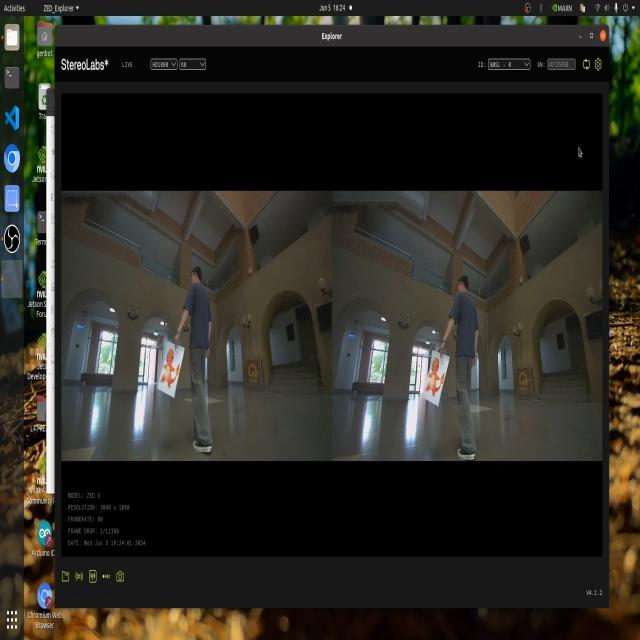red: (159, 339, 183, 401), (426, 352, 444, 404)
